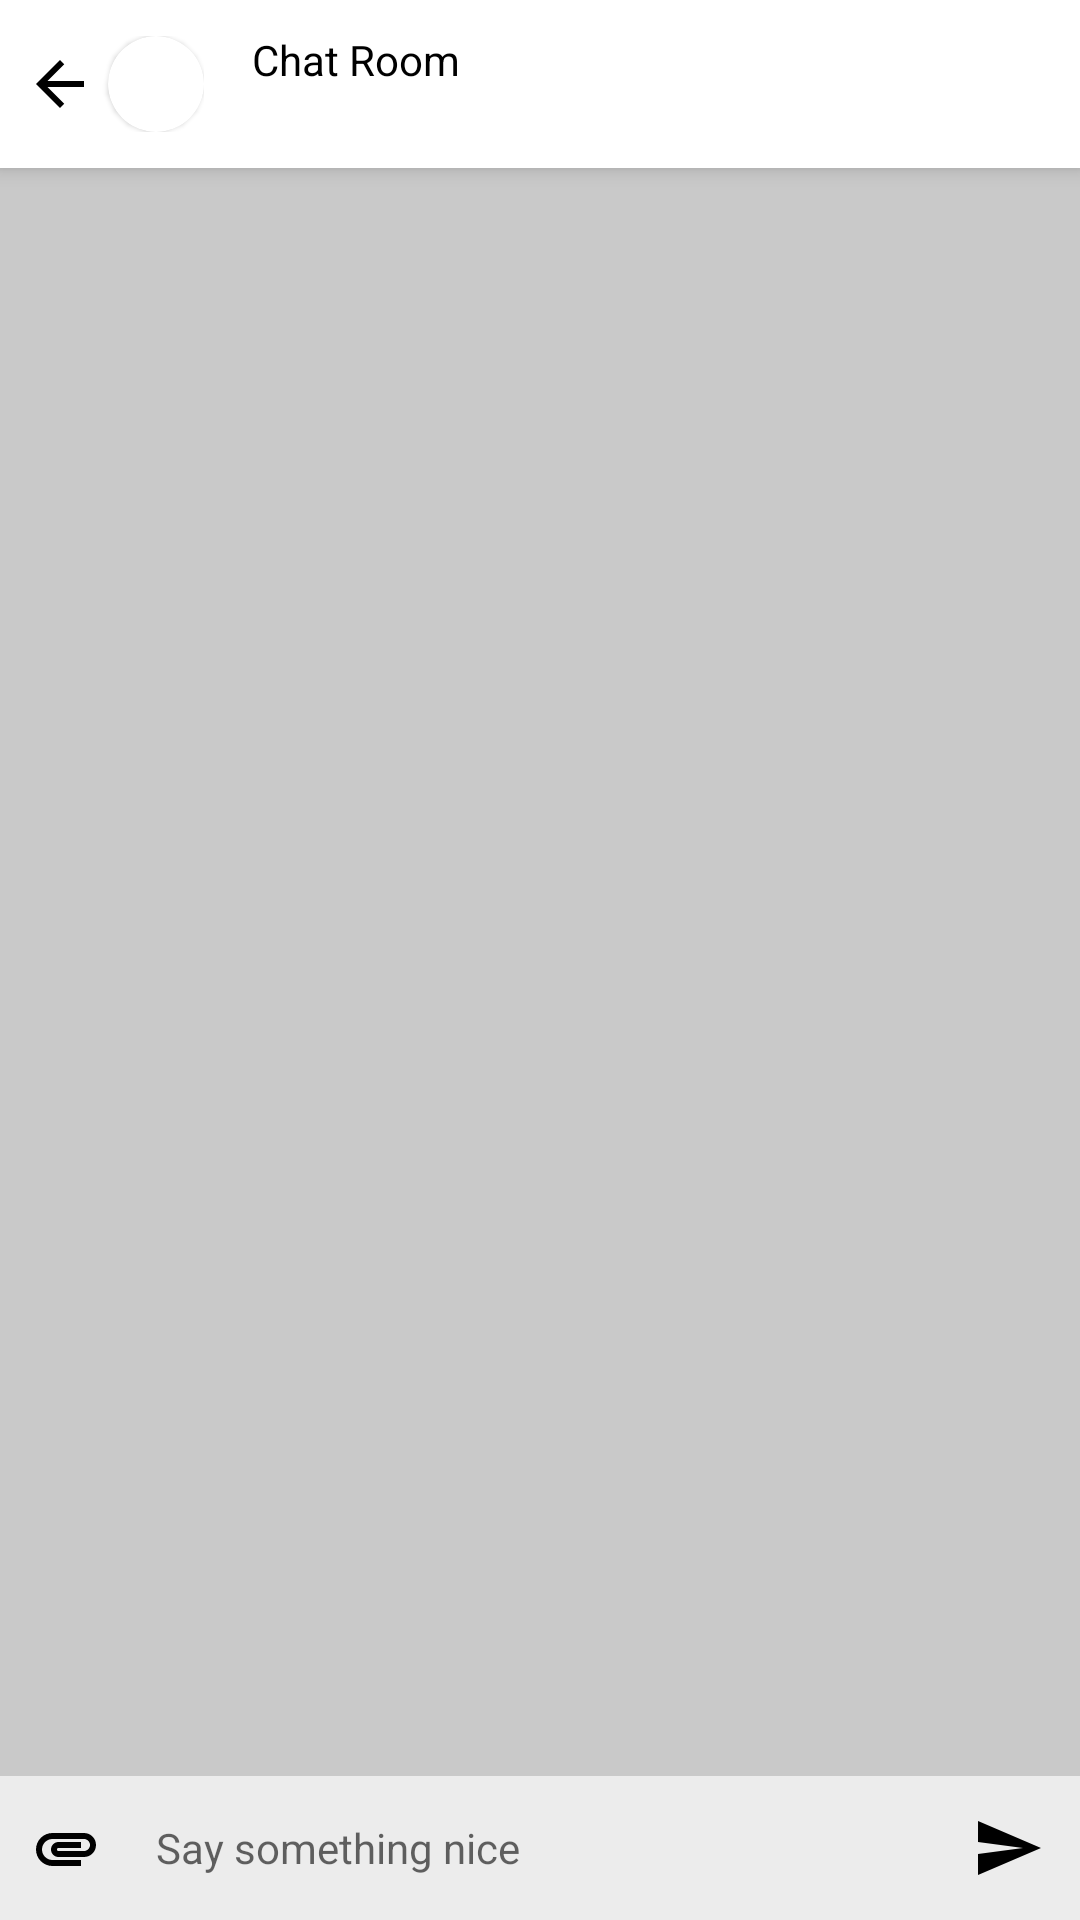

Where icons sit on this 1080×1920 app screen, as [left=x1, top=y1, right=x2, bottom=y2]:
attachment: [left=36, top=1833, right=96, bottom=1866]
back: [left=36, top=60, right=84, bottom=108]
send: [left=978, top=1821, right=1041, bottom=1875]
